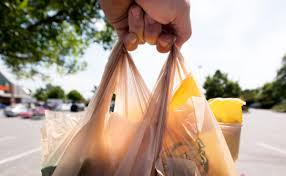Plastic: (40, 36, 240, 175)
